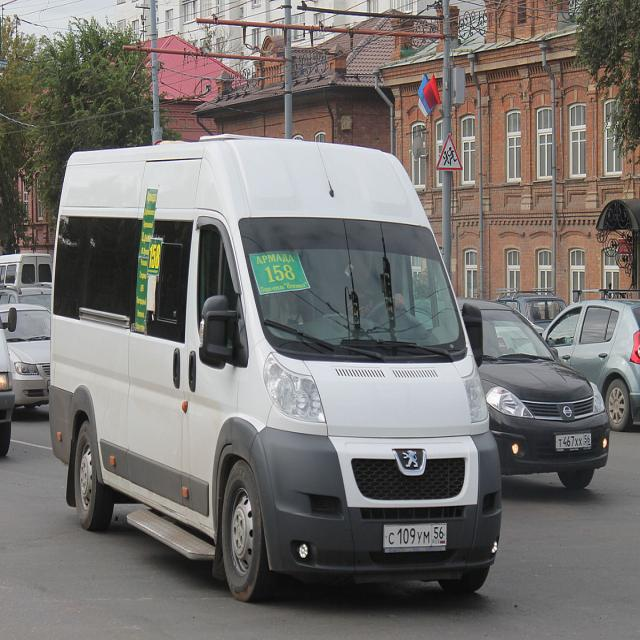number-of-bus: (266, 263, 297, 284), (150, 240, 162, 270)
